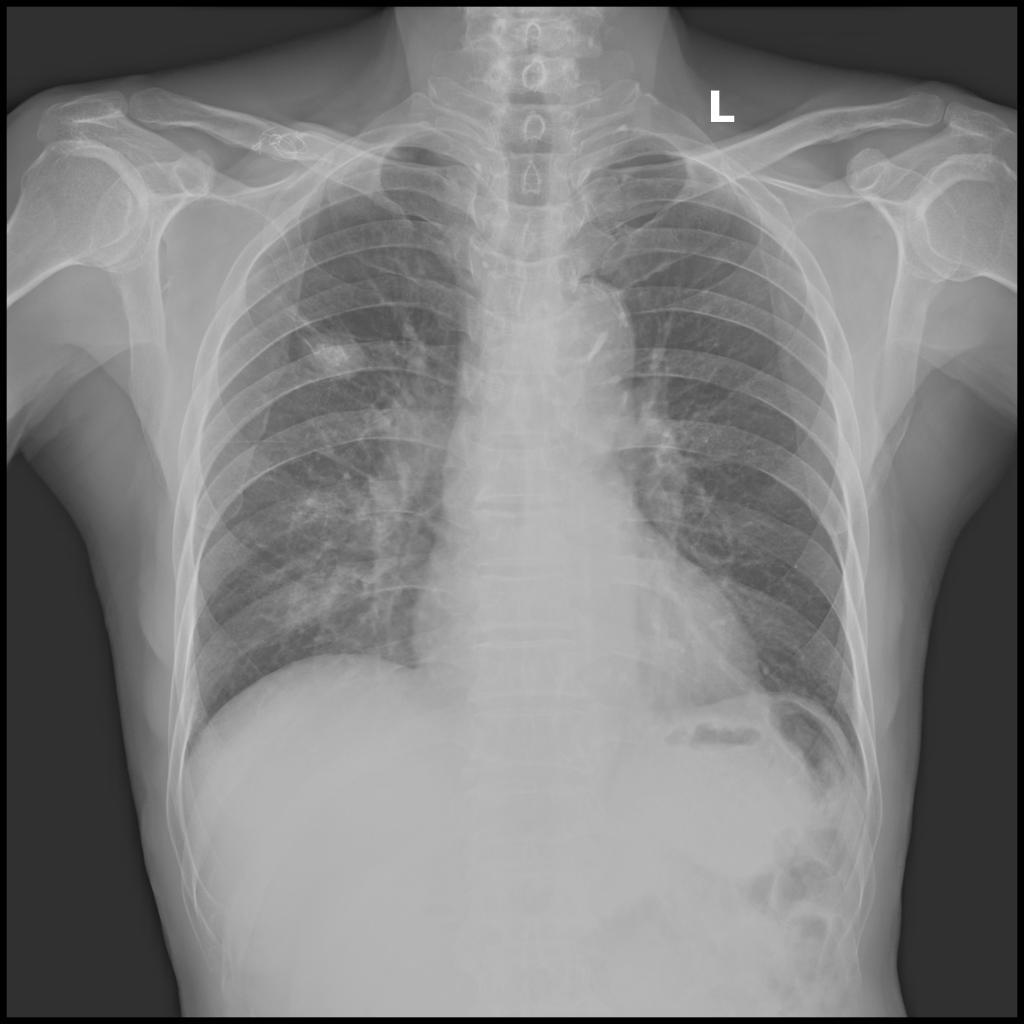Nodule: (304, 332, 370, 379)
